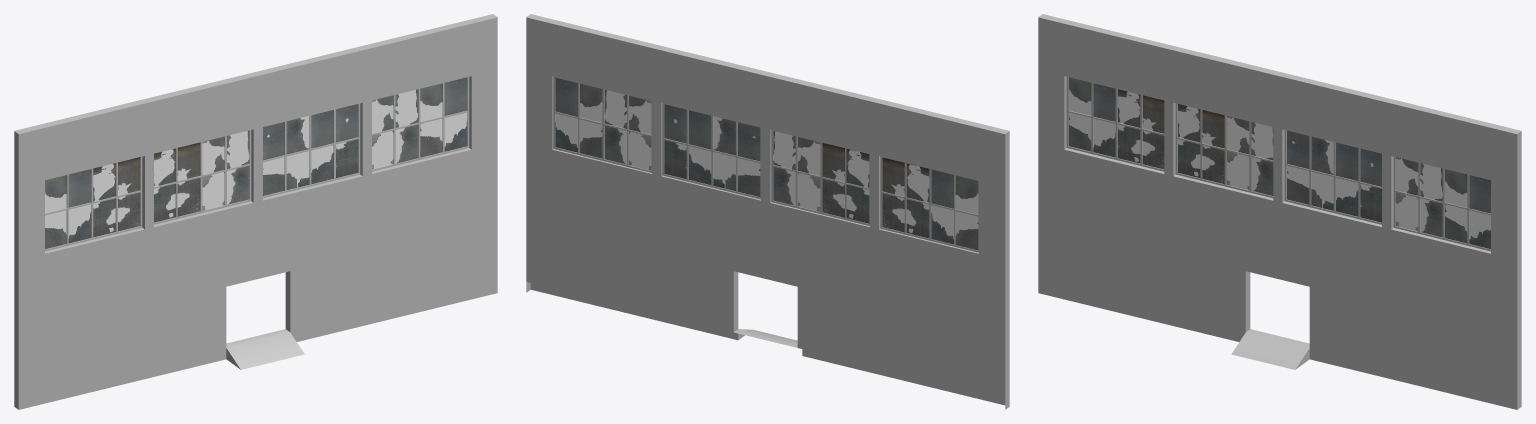
File: Factory1Wall03.FBX
3 views of the same model, side by side, from view 1: azimuth 30°, elevation 25°; view 2: azimuth 150°, elevation 25°; view 3: azimuth 330°, elevation 25° (orthographic).
Visible parts, largest first — view 1: Factory1Wall03, Factory1Wall03Glass; view 2: Factory1Wall03, Factory1Wall03Glass; view 3: Factory1Wall03, Factory1Wall03Glass.
Boxes of the visible parts, x1,y1,x2,y2 form: Factory1Wall03: (14,14,497,409); Factory1Wall03Glass: (45,77,467,248); Factory1Wall03: (526,14,1009,409); Factory1Wall03Glass: (555,77,978,250); Factory1Wall03: (1038,14,1521,409); Factory1Wall03Glass: (1069,77,1490,249).
Size of the model in its own units: 1800 by 990 by 125.
